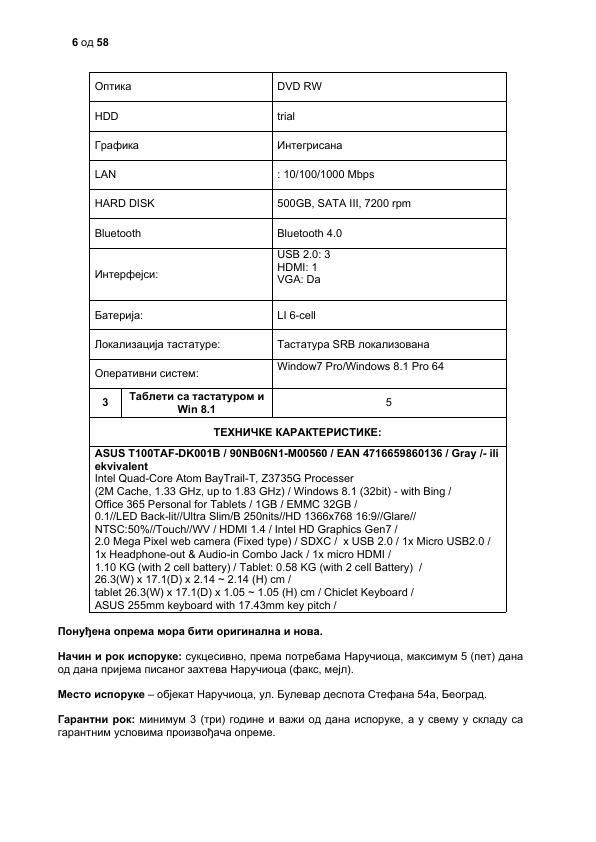table: (88, 72, 508, 613)
text: (55, 649, 524, 677), (55, 713, 527, 740), (56, 686, 489, 703), (56, 623, 323, 637), (69, 33, 112, 50)
